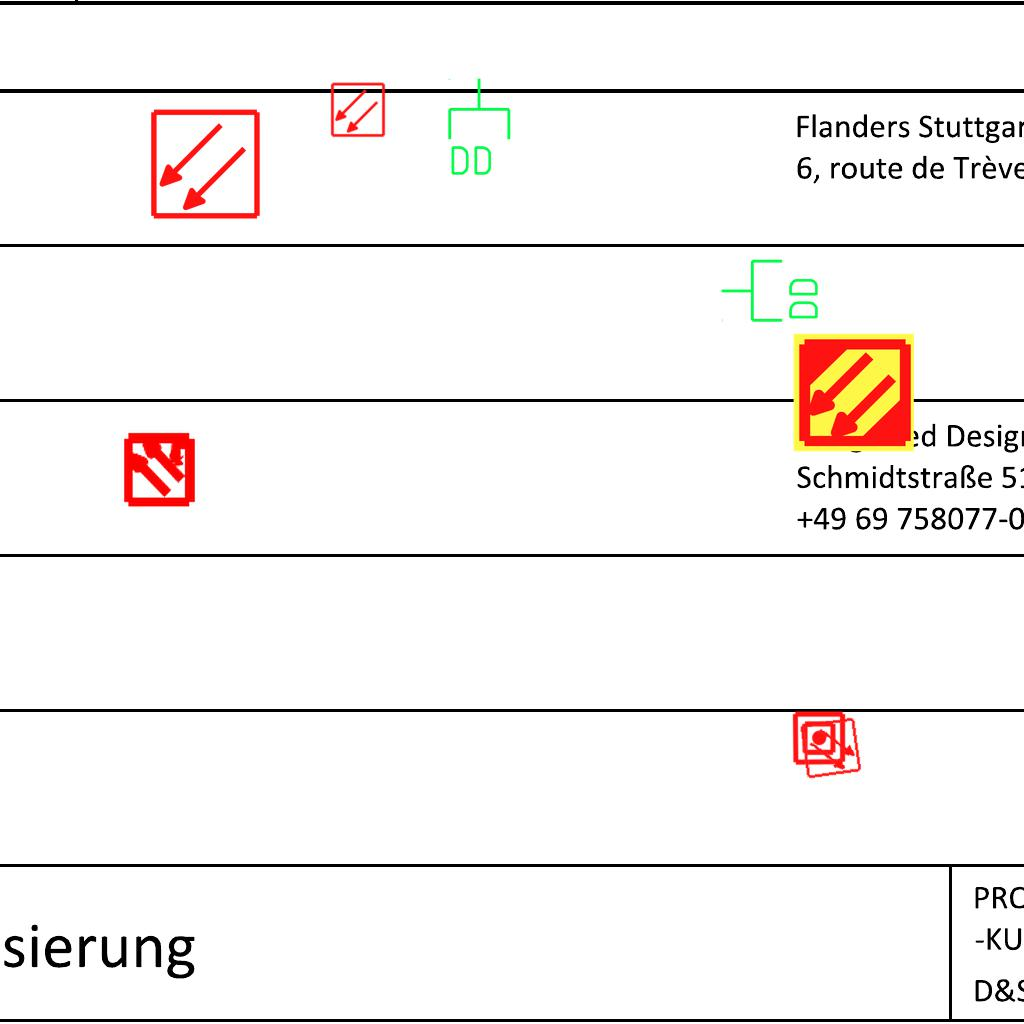ASR_Ansaugrauchmelder: (791, 330, 916, 455)
Datenanschluss_zweifach: (444, 76, 513, 179), (719, 257, 822, 326)
NAM-Nichtautomatischer_Melder: (791, 710, 847, 766)
OT_Multisensormelder_(Kombination_RMO_WMD): (103, 411, 216, 524)
RMO_Rauchmelder_optischer: (149, 108, 262, 221), (799, 716, 863, 780), (330, 82, 386, 138)
